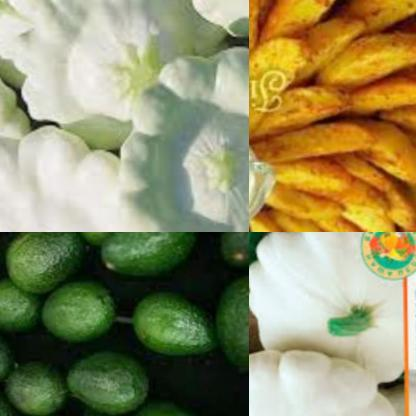avocado: (110, 289, 214, 367), (59, 347, 141, 416), (42, 275, 109, 353), (94, 232, 196, 283), (4, 232, 83, 289), (215, 285, 249, 376), (0, 357, 53, 413), (0, 271, 44, 336), (128, 387, 201, 416), (211, 232, 249, 278), (0, 325, 16, 389)
potato: (249, 0, 416, 232)
squash-patisson: (8, 0, 216, 146), (102, 41, 249, 232), (249, 232, 405, 389), (0, 123, 183, 232), (249, 346, 403, 416), (0, 0, 91, 118), (0, 26, 26, 232)
